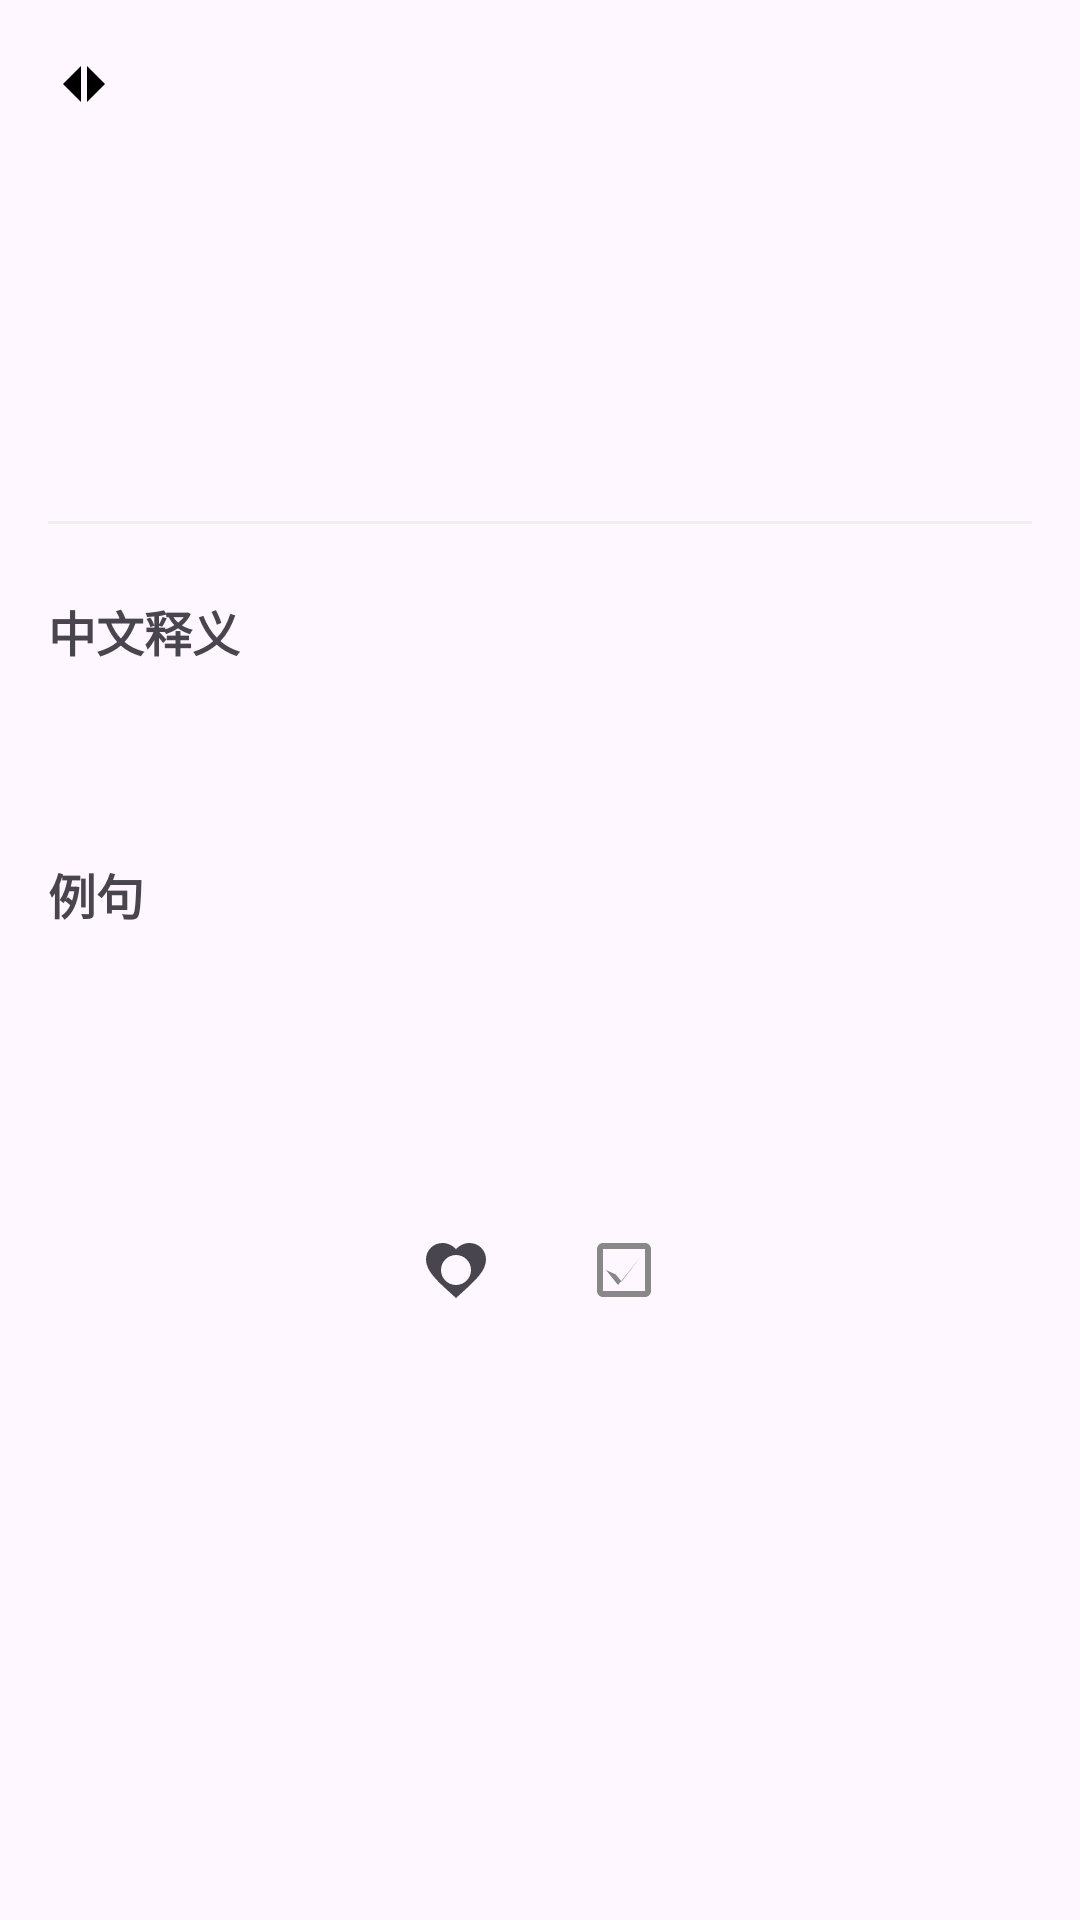

Icons on this 1080 x 1920 Android screen, each with the point to tap as (x,y):
收藏: (456,1270)
